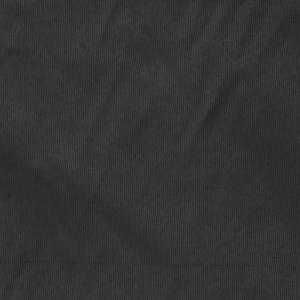Wrinkle: (68, 1, 164, 238), (177, 2, 300, 156), (2, 236, 52, 300)
